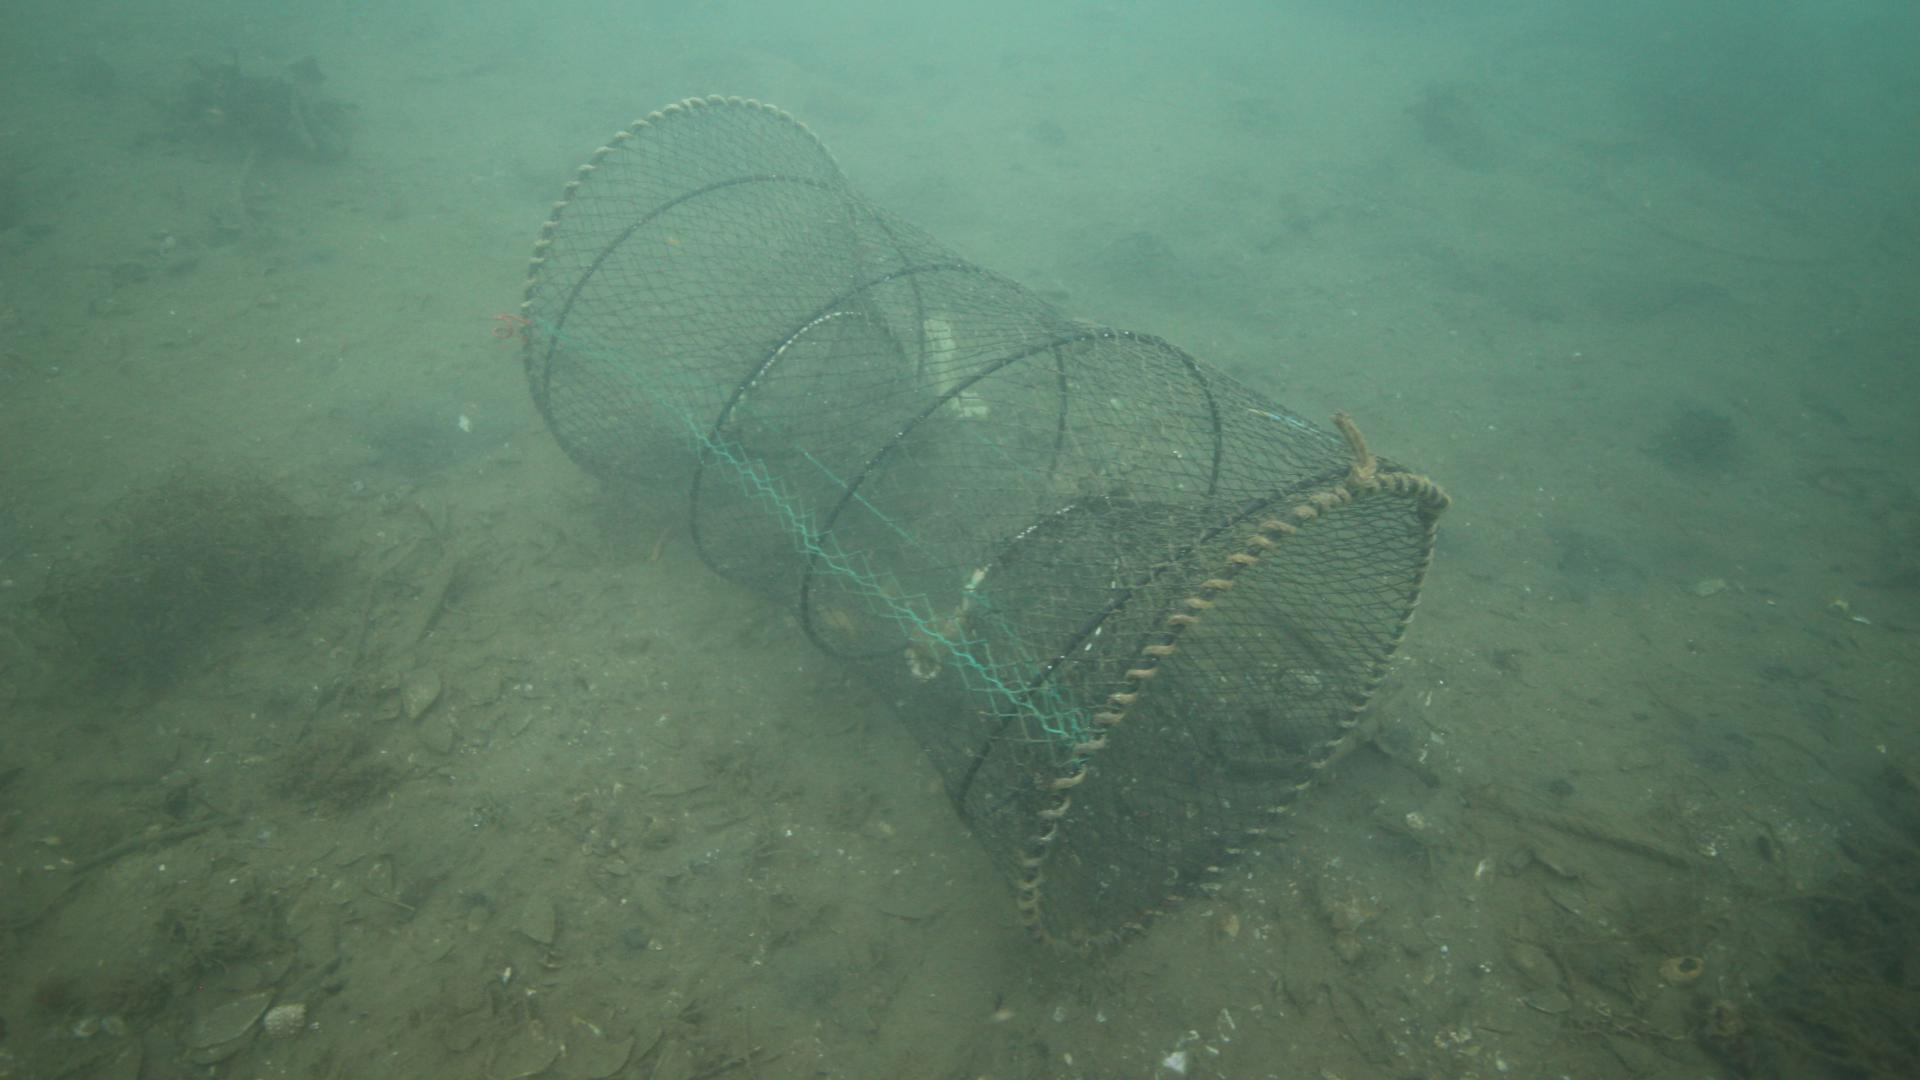spring fish trap: (516, 91, 1439, 961)
